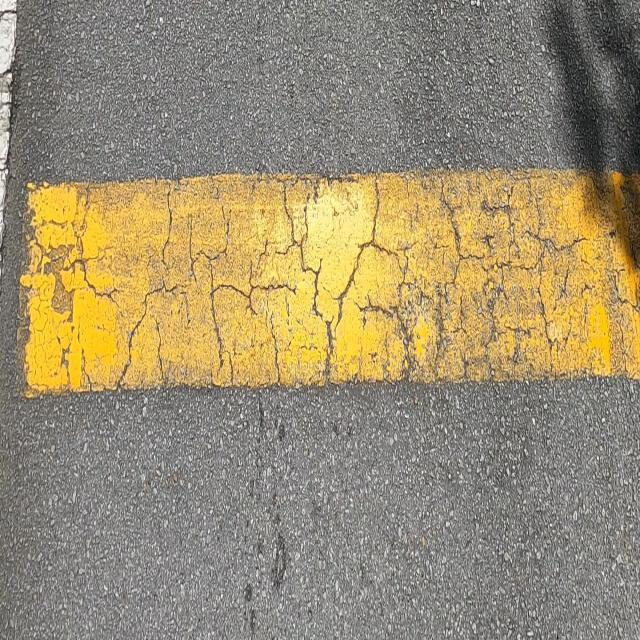Retak-Buaya: (110, 176, 584, 381)
